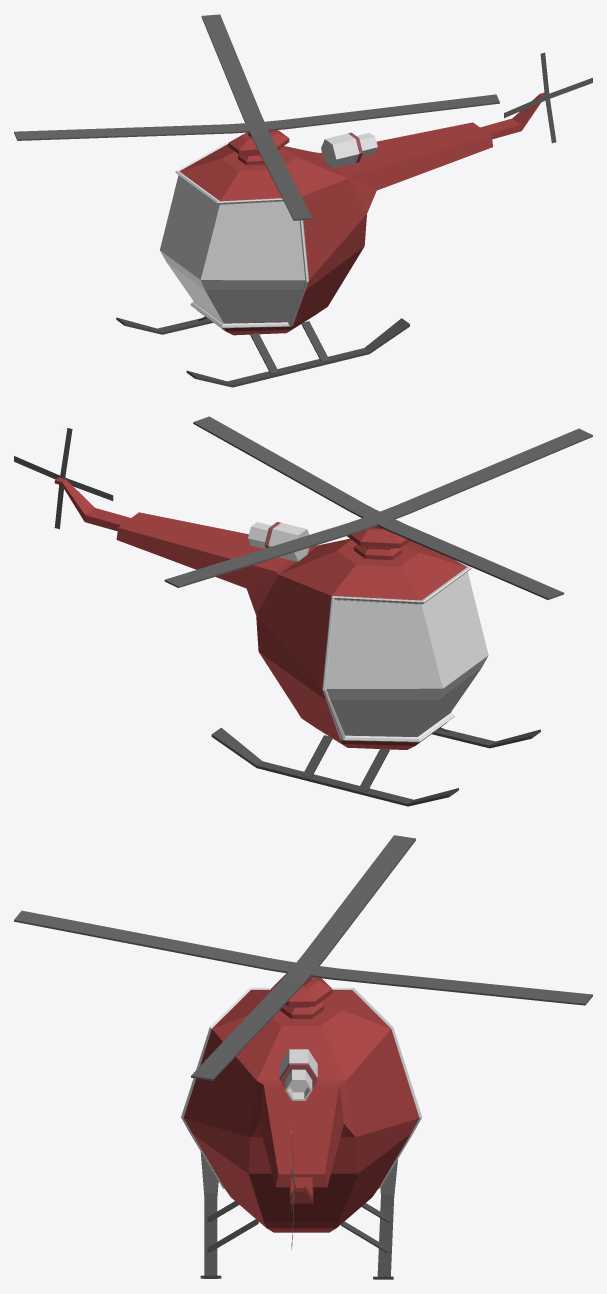
The model's file is Helicopter2.fbx.
3 views of the same model, one above another, from view 1: azimuth 30°, elevation 25°; view 2: azimuth 150°, elevation 25°; view 3: azimuth 270°, elevation 25° (orthographic). The views are drawn at different scales.
Parts seen in each view (by area): view 1: Landing Skid, Landing Skid.002, Propeller, Landing Skid.003, engine, Propeller1; view 2: Landing Skid, Landing Skid.002, Propeller, Landing Skid.003, engine, Propeller1; view 3: Landing Skid, Propeller, engine, Landing Skid.003.
Boxes of the visible parts, x1,y1,x2,y2 form: Landing Skid: (116,52,549,387); Landing Skid.002: (160,175,305,323); Propeller: (14,14,499,220); Landing Skid.003: (175,143,308,328); engine: (321,132,377,168); Propeller1: (504,52,592,143); Landing Skid: (54,427,540,806); Landing Skid.002: (326,571,488,736); Propeller: (164,416,592,599); Landing Skid.003: (322,566,471,742); engine: (248,522,309,561); Propeller1: (14,428,113,529); Landing Skid: (183,973,419,1279); Propeller: (14,835,592,1080); engine: (279,1049,317,1100); Landing Skid.003: (181,987,421,1188).
Bounding box in the file's own units: 1494 × 603 × 1137.
